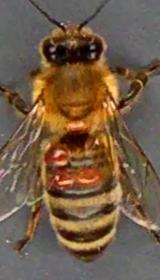varroa_mite: (36, 154, 76, 197), (60, 160, 104, 192), (43, 135, 77, 170)
